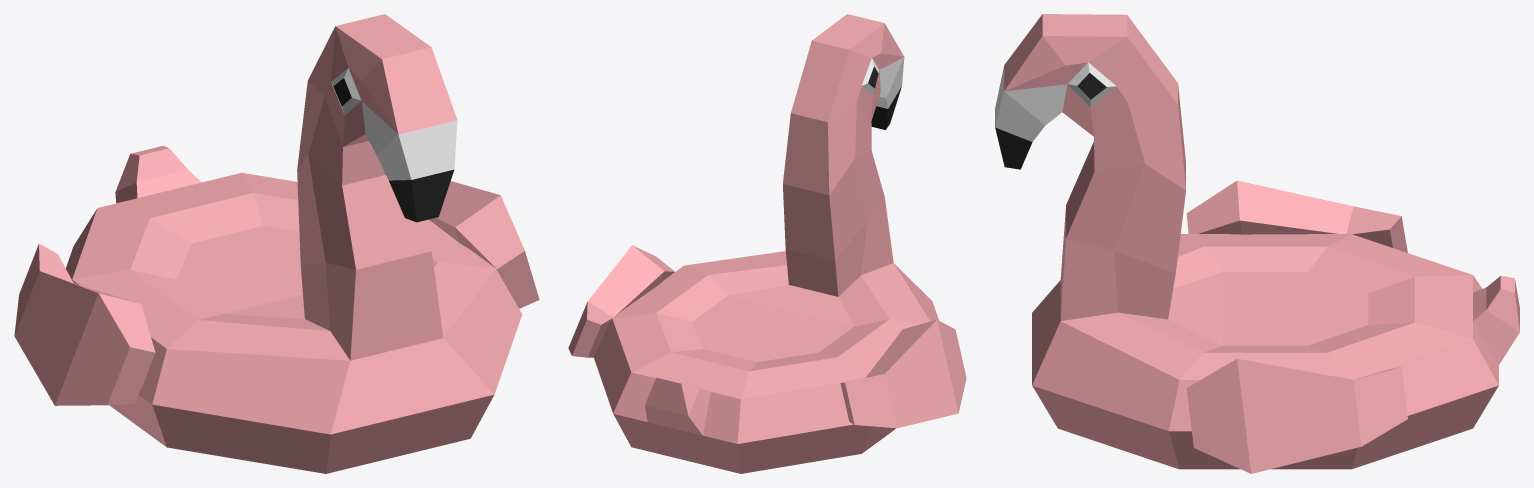
File: beach-inflatable-flamingo-big.glb
3 views of the same model, side by side, from view 1: azimuth 30°, elevation 25°; view 2: azimuth 150°, elevation 25°; view 3: azimuth 270°, elevation 25° (orthographic). The views are drawn at different scales.
Visible parts, largest first — view 1: inflatable-flamingo-big; view 2: inflatable-flamingo-big; view 3: inflatable-flamingo-big.
Part boxes in pixels (box(x1,y1,x2,y2)): inflatable-flamingo-big: box(14, 14, 539, 473); inflatable-flamingo-big: box(568, 14, 966, 473); inflatable-flamingo-big: box(995, 14, 1519, 473).
Size of the model in its own units: 2.12 by 1.81 by 2.24.
